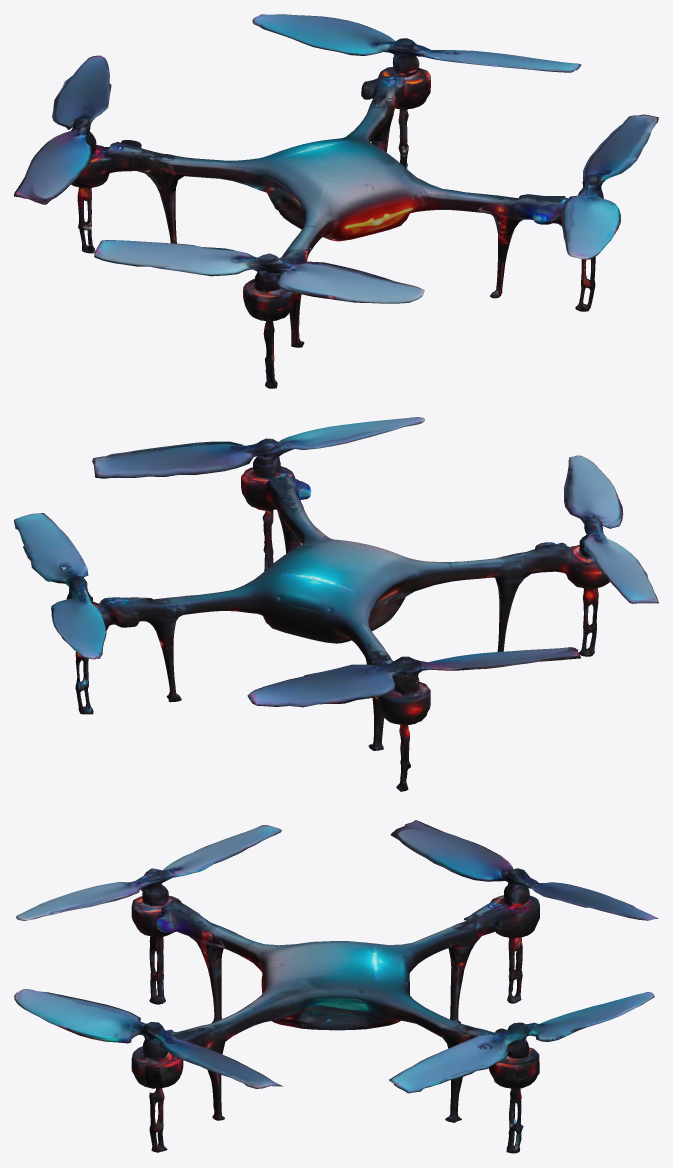
The picture shows the model from 3 angles, top to bottom: view 1: azimuth 30°, elevation 25°; view 2: azimuth 150°, elevation 25°; view 3: azimuth 270°, elevation 25°; orthographic projection. The views are drawn at different scales.
Size of the model in its own units: 1.97 by 0.4461 by 2.
Materials: 1 (1 with a texture image).
